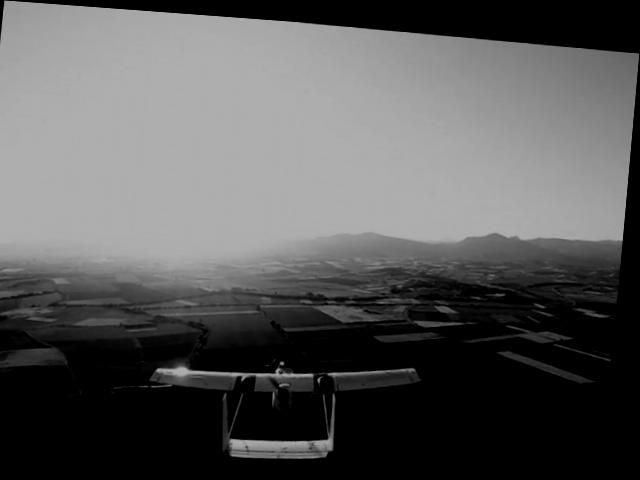hedef: (147, 335, 436, 472)
